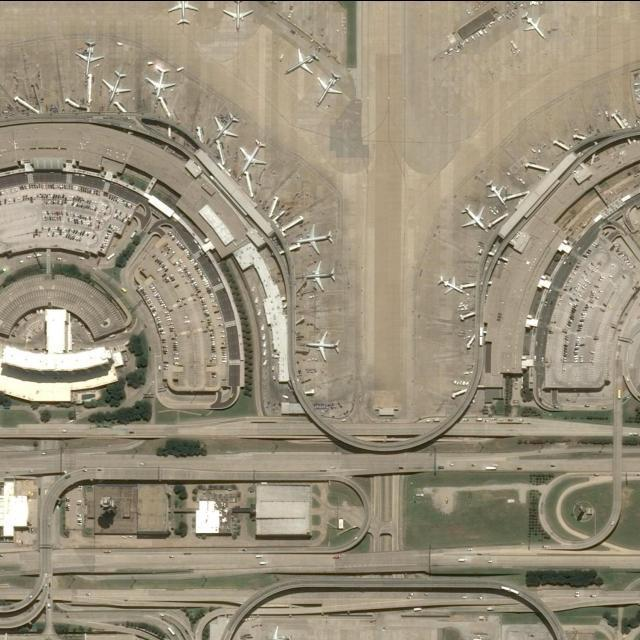Aircraft: (296, 224, 334, 253), (284, 48, 319, 78), (313, 71, 342, 107), (304, 261, 338, 291), (145, 65, 175, 99), (73, 41, 103, 75), (239, 137, 267, 173), (223, 2, 251, 32), (103, 72, 131, 102), (308, 332, 340, 358), (212, 112, 238, 142), (167, 0, 195, 27), (521, 10, 547, 39), (460, 205, 487, 231), (437, 276, 466, 295), (485, 180, 506, 204), (259, 628, 292, 640)
